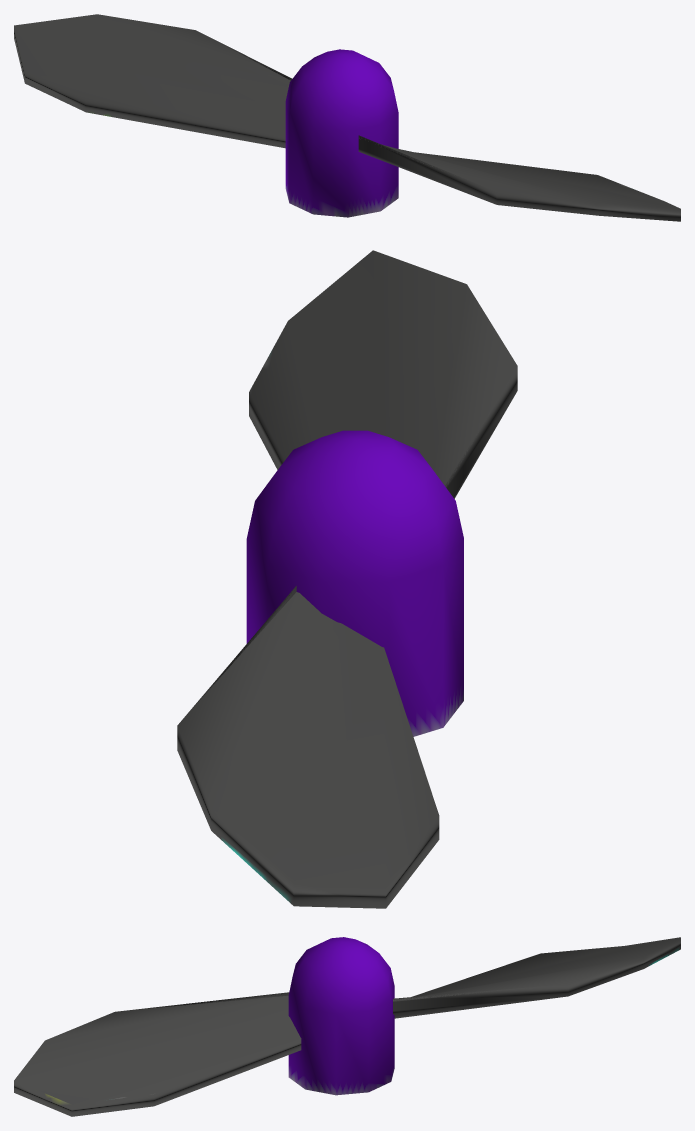
The model's file is SM_Dron_1_SM_D1_Propeller2.fbx.
The picture shows the model from 3 angles, top to bottom: view 1: azimuth 30°, elevation 25°; view 2: azimuth 150°, elevation 25°; view 3: azimuth 270°, elevation 25°; orthographic projection. The views are drawn at different scales.
Visible parts, largest first — view 1: SM_Dron_1_SM_D1_Propeller2; view 2: SM_Dron_1_SM_D1_Propeller2; view 3: SM_Dron_1_SM_D1_Propeller2.
Boxes of the visible parts, <box> form: SM_Dron_1_SM_D1_Propeller2: <box>14,14,680,221</box>; SM_Dron_1_SM_D1_Propeller2: <box>177,250,517,908</box>; SM_Dron_1_SM_D1_Propeller2: <box>14,937,680,1116</box>.
Bounding box in the file's own units: 12.01 × 21.32 × 4.6.
1 material, 1 textured.
